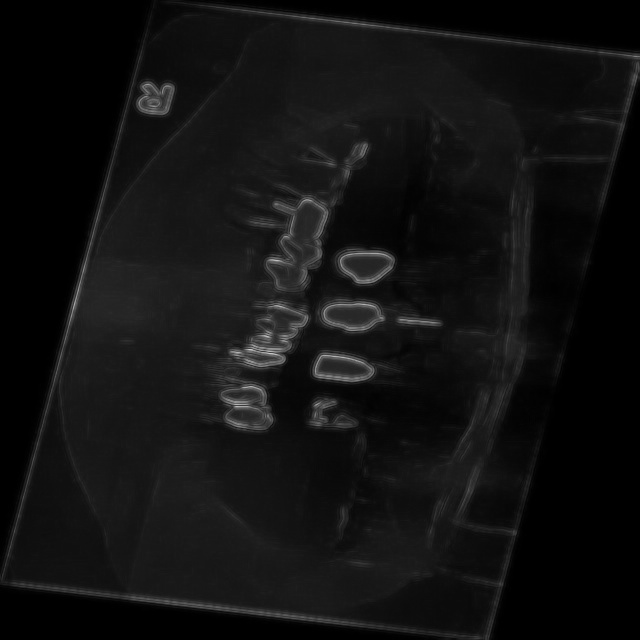Class 1- complete endodontic treatment: (205, 188, 308, 240)
cavity: (319, 235, 504, 305), (296, 344, 462, 404), (146, 375, 275, 437)
